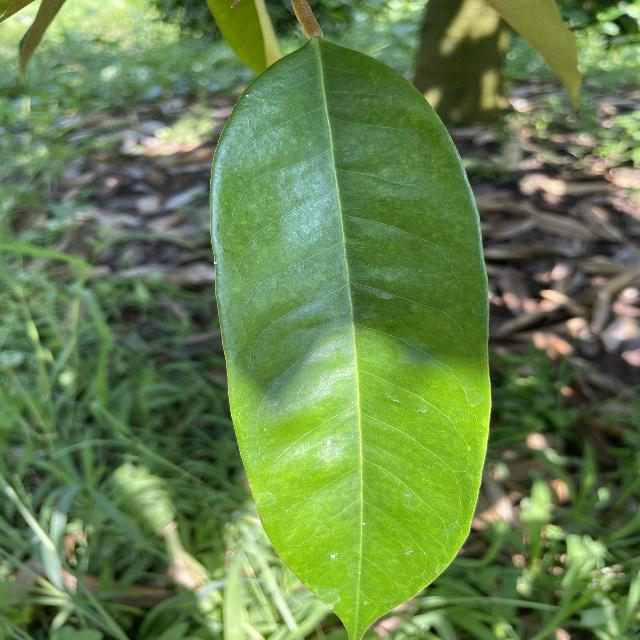No Disease: (203, 25, 503, 639)
